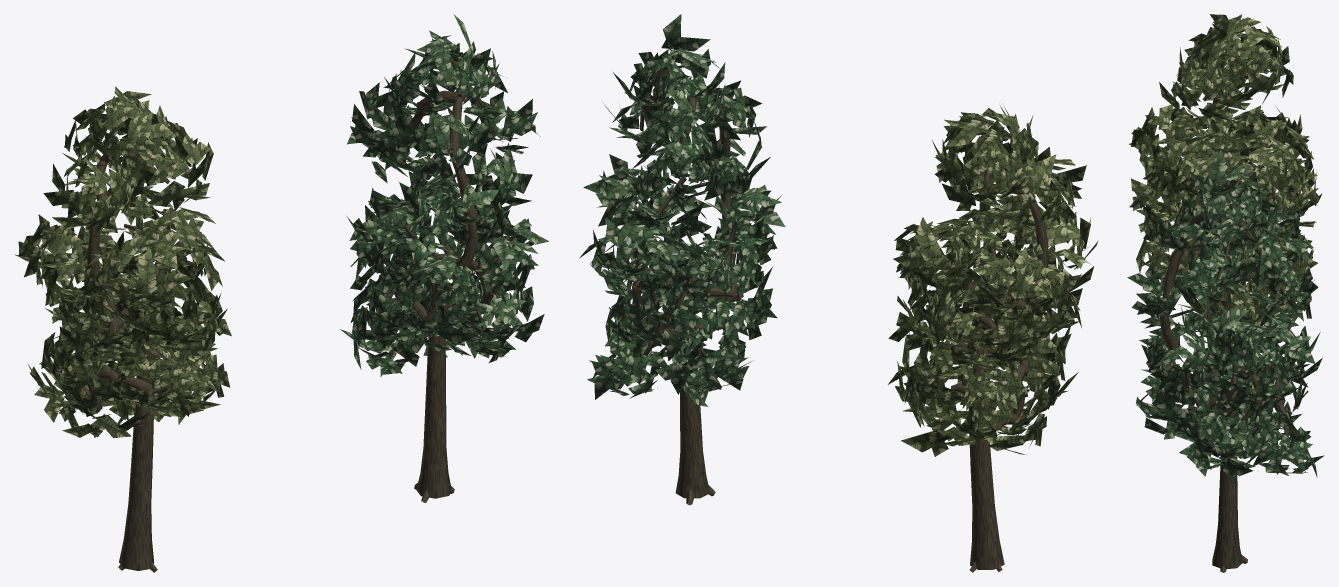
Rendered from tree_slim.glb.
3 renders of one model, left to right at view 1: azimuth 30°, elevation 25°; view 2: azimuth 150°, elevation 25°; view 3: azimuth 270°, elevation 25°, orthographic. The views are drawn at different scales.
Parts seen in each view (by area): view 1: tree_slim_lod0; view 2: tree_slim_lod0; view 3: tree_slim_lod0.
Part boxes in pixels (<box>): tree_slim_lod0: <box>15,14,548,572</box>; tree_slim_lod0: <box>579,14,1097,572</box>; tree_slim_lod0: <box>1127,14,1324,572</box>.
Bounding box in the file's own units: 3.91 × 3.6 × 1.51.
Materials: 1 (1 with a texture image).
